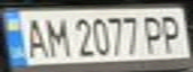0: (90, 14, 109, 56)
2: (69, 14, 93, 58)
7: (121, 12, 142, 55), (106, 13, 127, 55)
A: (18, 13, 51, 60)
M: (39, 14, 69, 58)
P: (157, 11, 190, 54), (139, 11, 169, 55)
